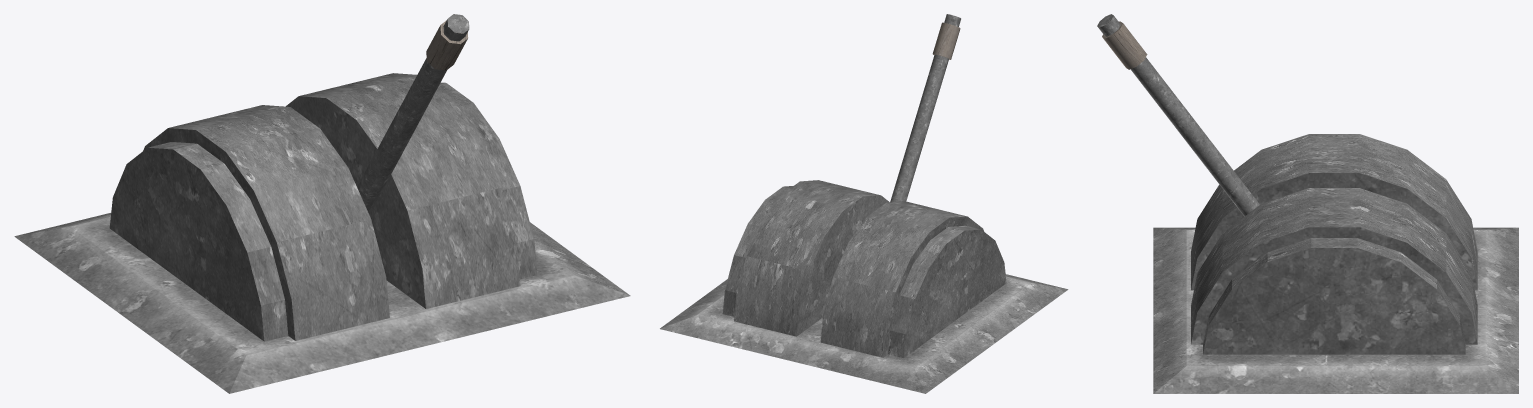
File: dzwignia1.FBX
3 renders of one model, left to right at view 1: azimuth 30°, elevation 25°; view 2: azimuth 150°, elevation 25°; view 3: azimuth 270°, elevation 25°, orthographic. The views are drawn at different scales.
Visible parts, largest first — view 1: podstawaDzwigni1, dzwignia1; view 2: podstawaDzwigni1, dzwignia1; view 3: podstawaDzwigni1, dzwignia1.
Boxes of the visible parts, left/top/right/bottom form: podstawaDzwigni1: left=14, top=73, right=630, bottom=393; dzwignia1: left=357, top=14, right=469, bottom=214; podstawaDzwigni1: left=660, top=180, right=1068, bottom=393; dzwignia1: left=890, top=14, right=960, bottom=202; podstawaDzwigni1: left=1153, top=134, right=1518, bottom=393; dzwignia1: left=1097, top=14, right=1259, bottom=216.
Size of the model in its own units: 58.35 by 49.18 by 62.52.
Materials: 1 (1 with a texture image).
